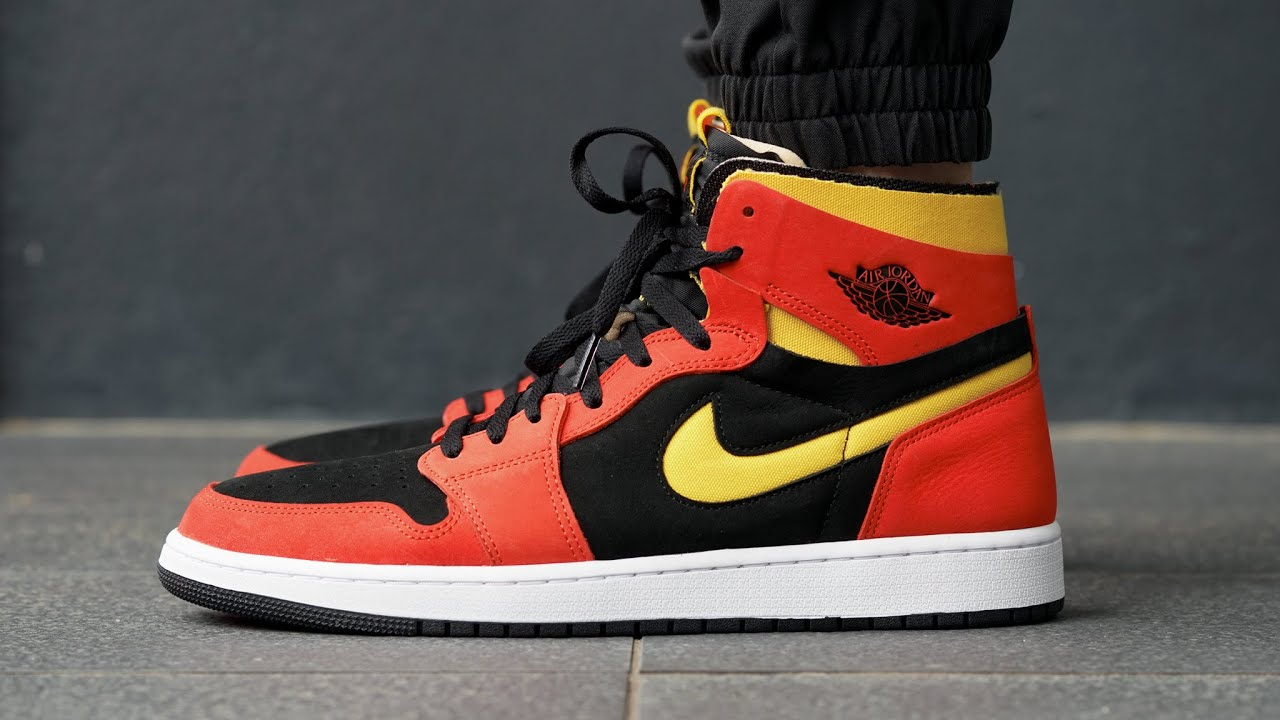Jordan 1: (156, 93, 1081, 647)
